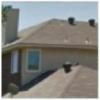chimneys: (1, 4, 19, 44), (66, 16, 77, 28), (86, 17, 96, 29)
